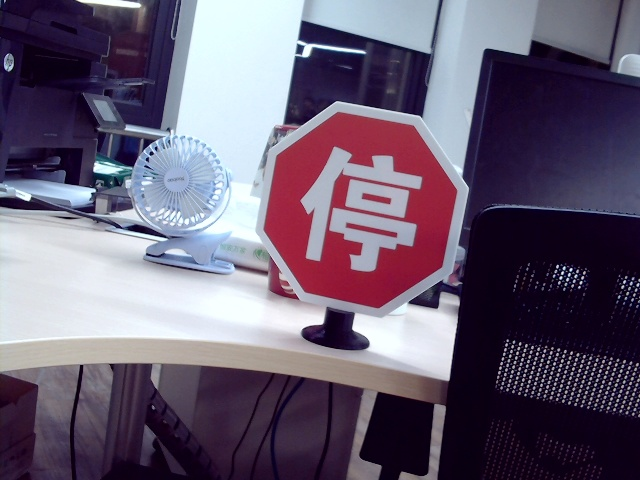stop: (303, 142, 419, 267)
